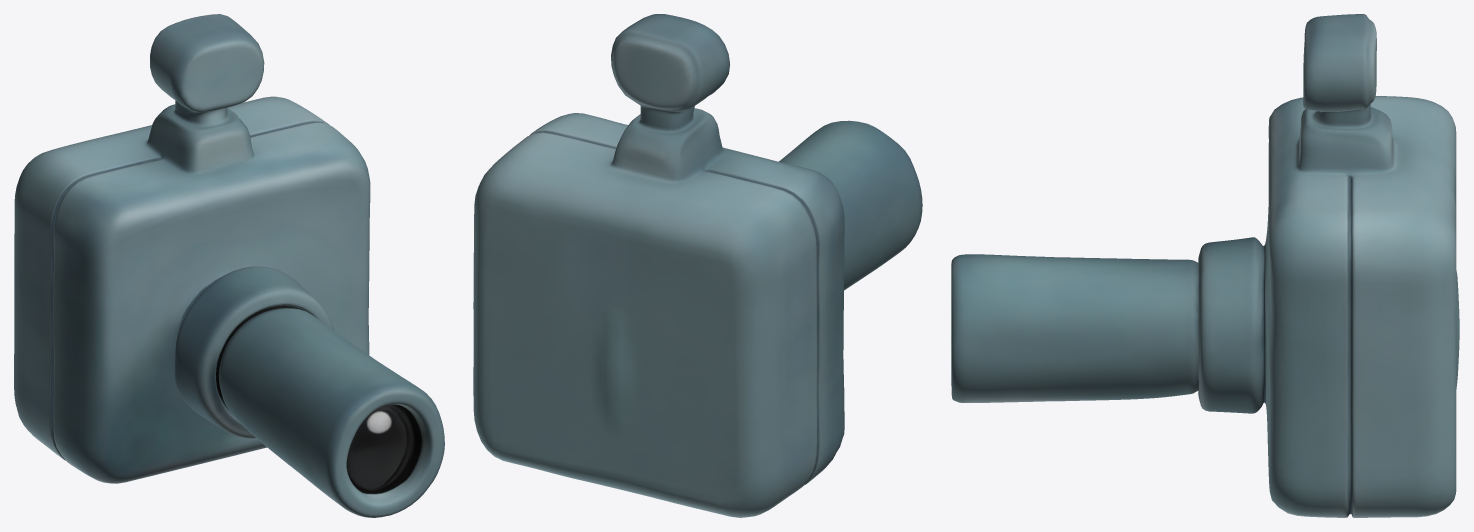
The model's file is text_attempt.glb.
3 views of the same model, side by side, from view 1: azimuth 30°, elevation 25°; view 2: azimuth 150°, elevation 25°; view 3: azimuth 270°, elevation 25° (orthographic). The views are drawn at different scales.
Visible parts, largest first — view 1: model; view 2: model; view 3: model.
Part boxes in pixels (bbox=[...]): model: bbox=[14, 14, 444, 517]; model: bbox=[473, 14, 922, 517]; model: bbox=[951, 14, 1459, 517].
Size of the model in its own units: 1.31 by 1.77 by 1.88.
1 material, 1 textured.
